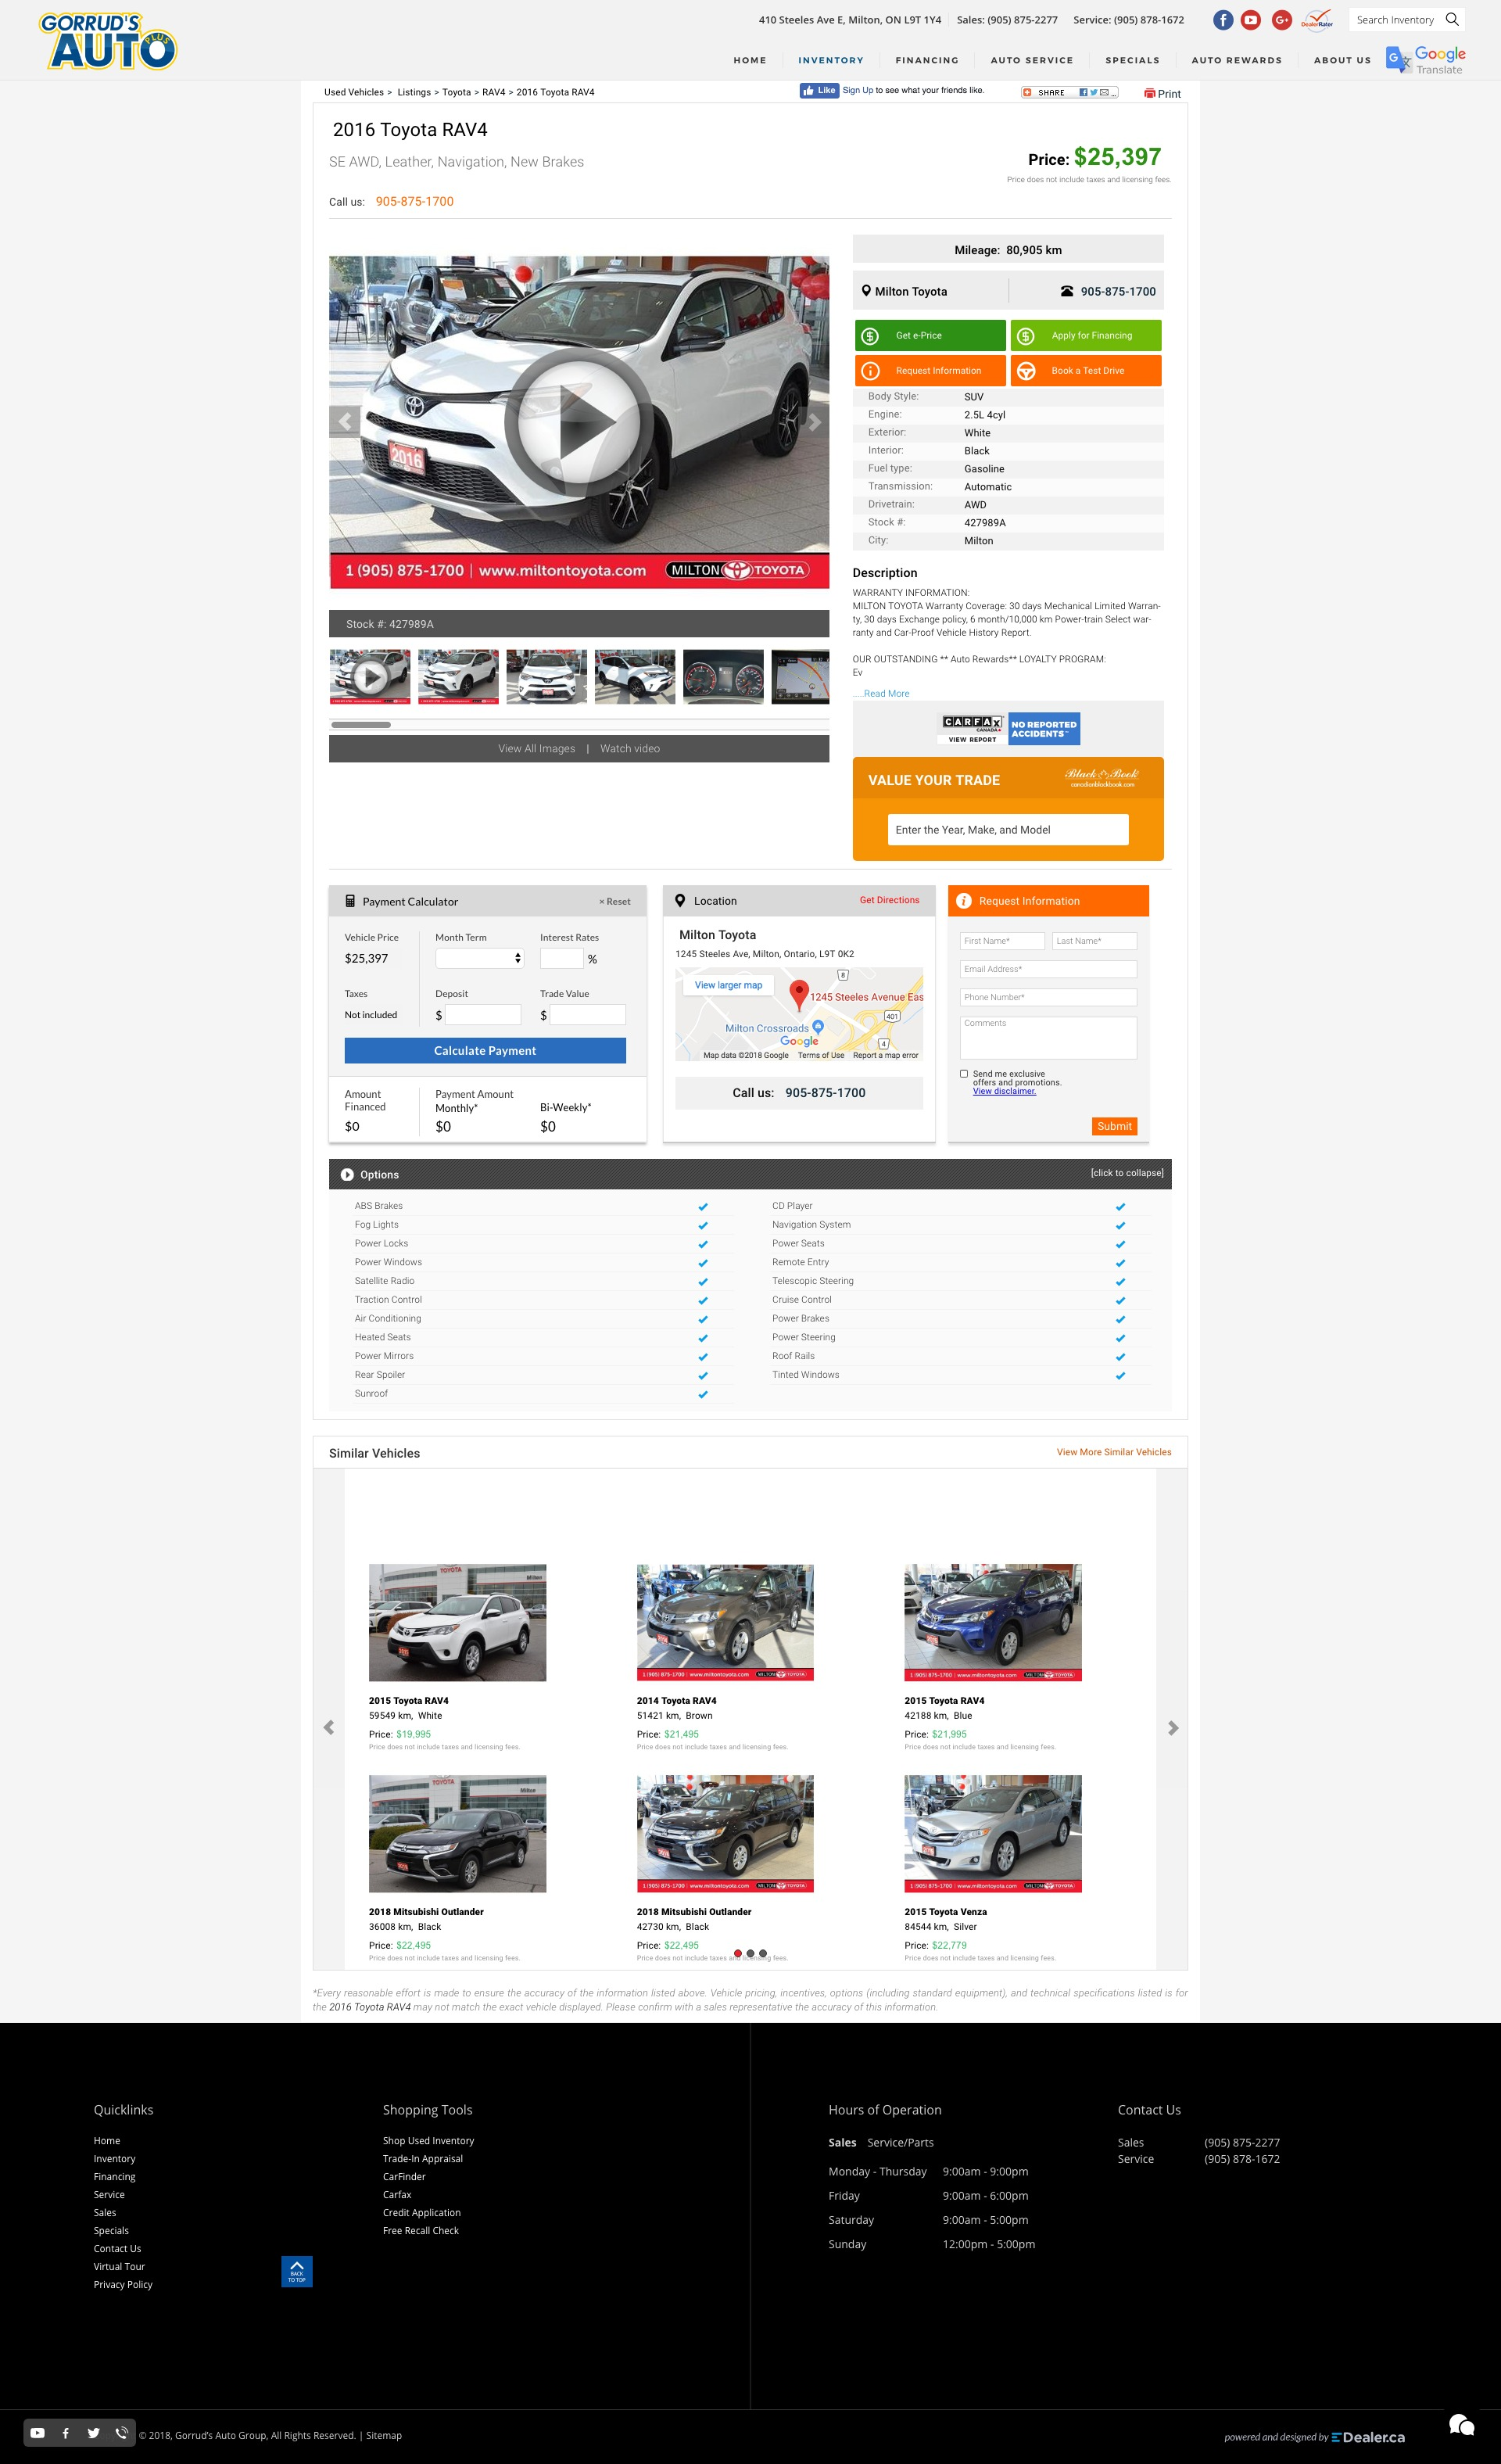car: (809, 414, 822, 433)
